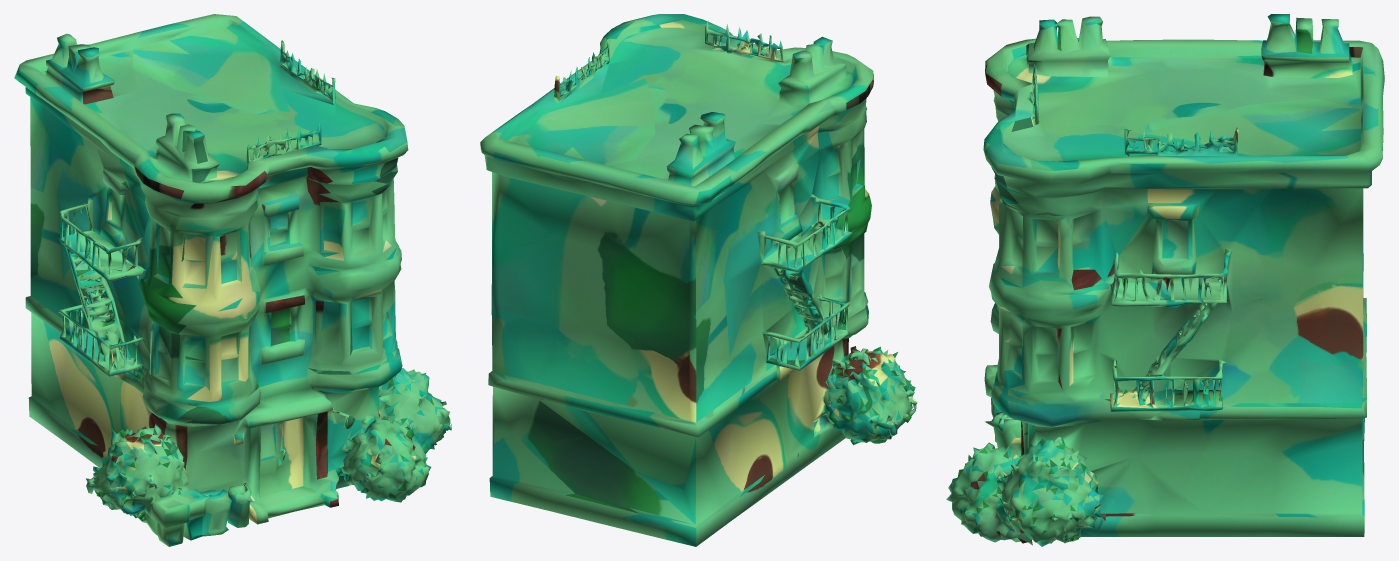
Rendered from Building2.fbx.
3 renders of one model, left to right at view 1: azimuth 30°, elevation 25°; view 2: azimuth 150°, elevation 25°; view 3: azimuth 270°, elevation 25°, orthographic. The views are drawn at different scales.
Parts seen in each view (by area): view 1: Mesh_0; view 2: Mesh_0; view 3: Mesh_0.
Boxes of the visible parts, x1,y1,x2,y2 form: Mesh_0: (14, 14, 451, 546); Mesh_0: (480, 14, 917, 546); Mesh_0: (946, 14, 1384, 546).
Bounding box in the file's own units: 186 × 200 × 187.
